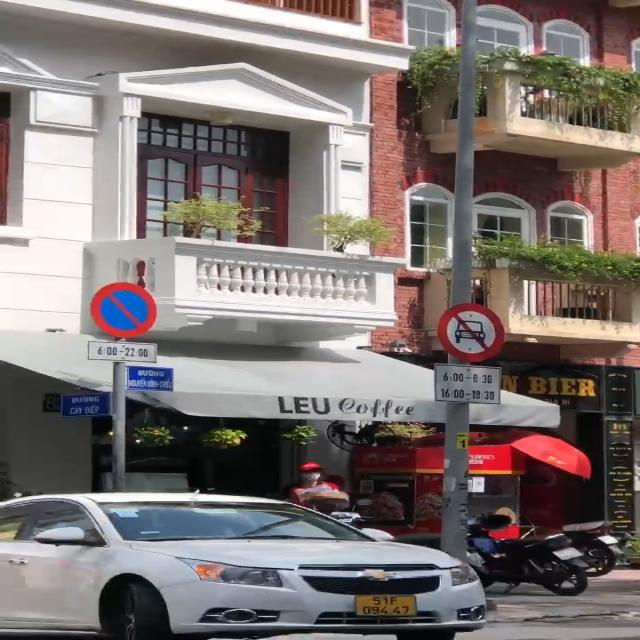Bien bao cam do xe: (92, 277, 161, 339)
Bien bao cam xe oto: (436, 300, 508, 359)
